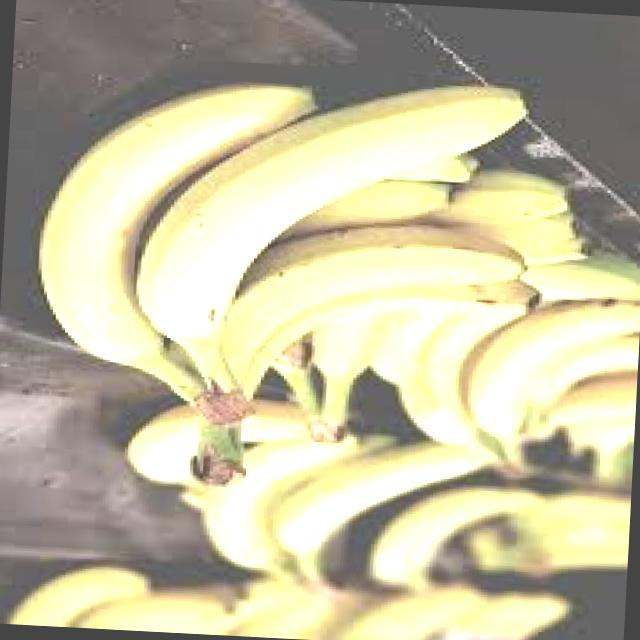Banana: (32, 49, 555, 492), (120, 400, 486, 600), (403, 283, 640, 485), (2, 567, 333, 640), (359, 482, 548, 598)
